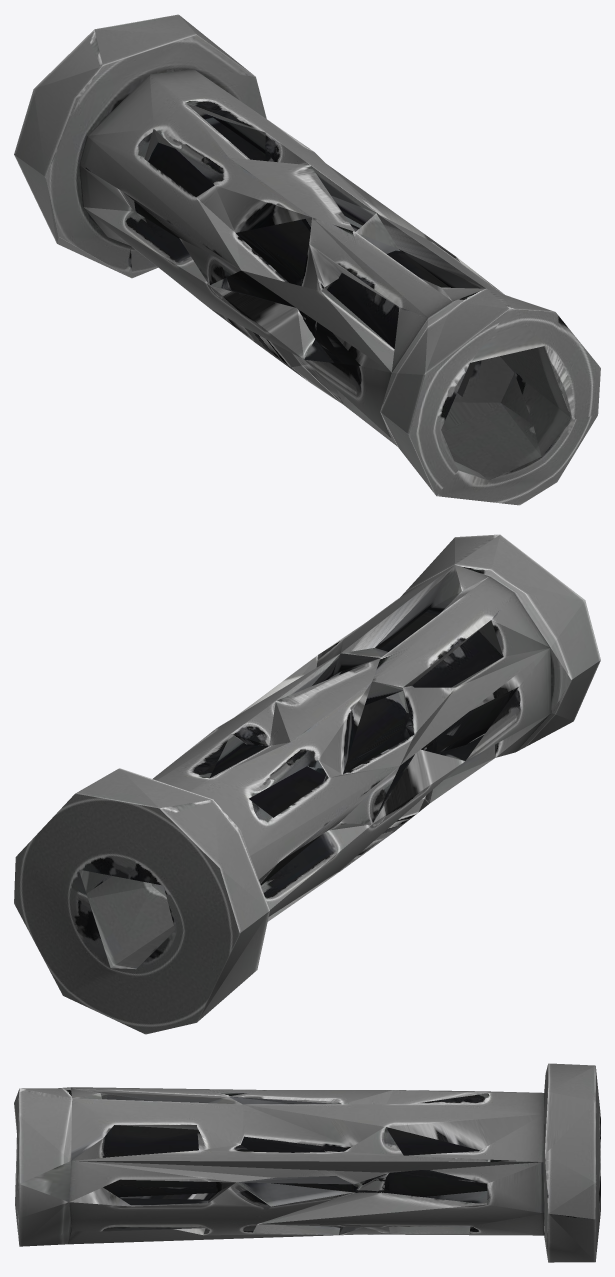
The model's file is shared_flak_tower_compact_option__barrel.glb.
3 renders of one model, top to bottom at view 1: azimuth 30°, elevation 25°; view 2: azimuth 150°, elevation 25°; view 3: azimuth 270°, elevation 25°, orthographic. The views are drawn at different scales.
Visible parts, largest first — view 1: mesh_node; view 2: mesh_node; view 3: mesh_node.
Boxes of the visible parts, bbox=[...] form: mesh_node: bbox=[14, 14, 600, 505]; mesh_node: bbox=[14, 534, 600, 1034]; mesh_node: bbox=[14, 1063, 600, 1262].
Bounding box in the file's own units: 0.6013 × 0.582 × 1.77.
1 material, 1 textured.
